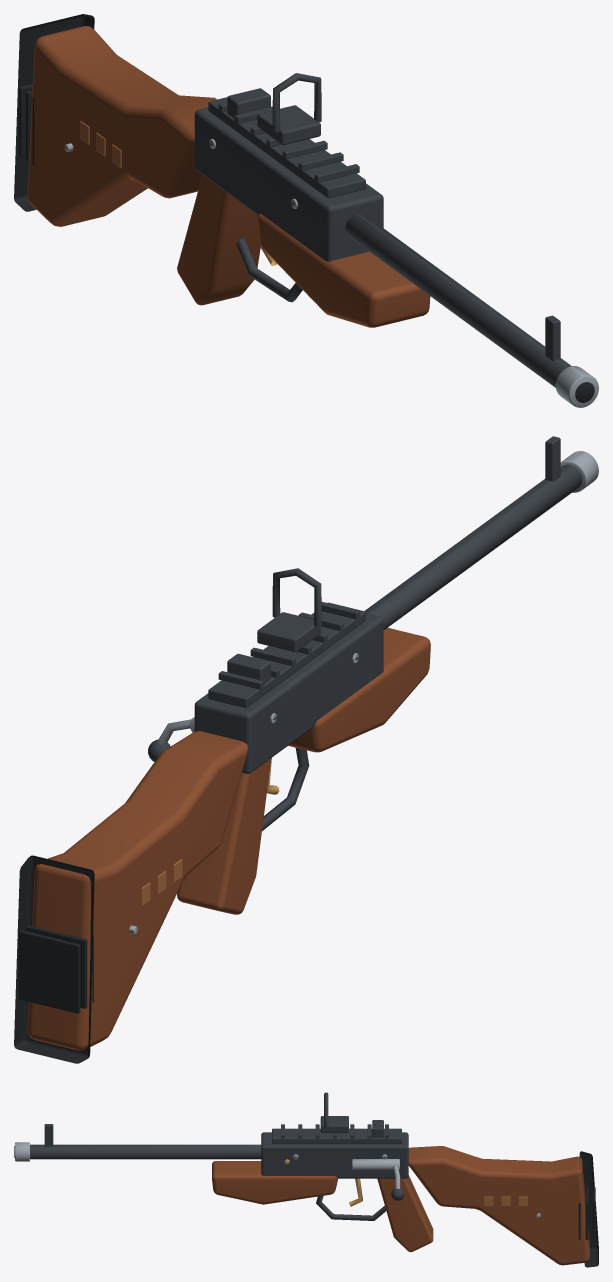
Rendered from ks-rifle-airgun.glb.
The picture shows the model from 3 angles, top to bottom: view 1: azimuth 30°, elevation 25°; view 2: azimuth 150°, elevation 25°; view 3: azimuth 270°, elevation 25°; orthographic projection. The views are drawn at different scales.
Parts seen in each view (by area): view 1: static_batch_Warm_walnut, static_batch_Graphite, static_batch_Soft_matte_contact_pads, static_batch_Satin_stainless_details, static_batch_Walnut_edge_grain; view 2: static_batch_Warm_walnut, static_batch_Graphite, static_batch_Soft_matte_contact_pads, static_batch_Satin_stainless_details; view 3: static_batch_Warm_walnut, static_batch_Graphite, static_batch_Soft_matte_contact_pads, bolt, static_batch_Satin_stainless_details, static_batch_Walnut_edge_grain.
Boxes of the visible parts, left/top/right/bottom form: static_batch_Warm_walnut: left=27, top=26, right=430, bottom=327; static_batch_Graphite: left=194, top=73, right=571, bottom=387; static_batch_Soft_matte_contact_pads: left=14, top=14, right=594, bottom=402; static_batch_Satin_stainless_details: left=64, top=138, right=598, bottom=407; static_batch_Walnut_edge_grain: left=80, top=121, right=121, bottom=168; static_batch_Warm_walnut: left=27, top=627, right=430, bottom=1050; static_batch_Graphite: left=194, top=436, right=581, bottom=830; static_batch_Soft_matte_contact_pads: left=14, top=657, right=358, bottom=1063; static_batch_Satin_stainless_details: left=129, top=451, right=598, bottom=933; static_batch_Warm_walnut: left=212, top=1146, right=589, bottom=1265; static_batch_Graphite: left=30, top=1092, right=408, bottom=1220; static_batch_Soft_matte_contact_pads: left=14, top=1146, right=598, bottom=1267; bolt: left=352, top=1159, right=399, bottom=1169; static_batch_Satin_stainless_details: left=15, top=1142, right=540, bottom=1217; static_batch_Walnut_edge_grain: left=484, top=1196, right=527, bottom=1206.
Bounding box in the file's own units: 0.1685 × 0.4243 × 1.35.
